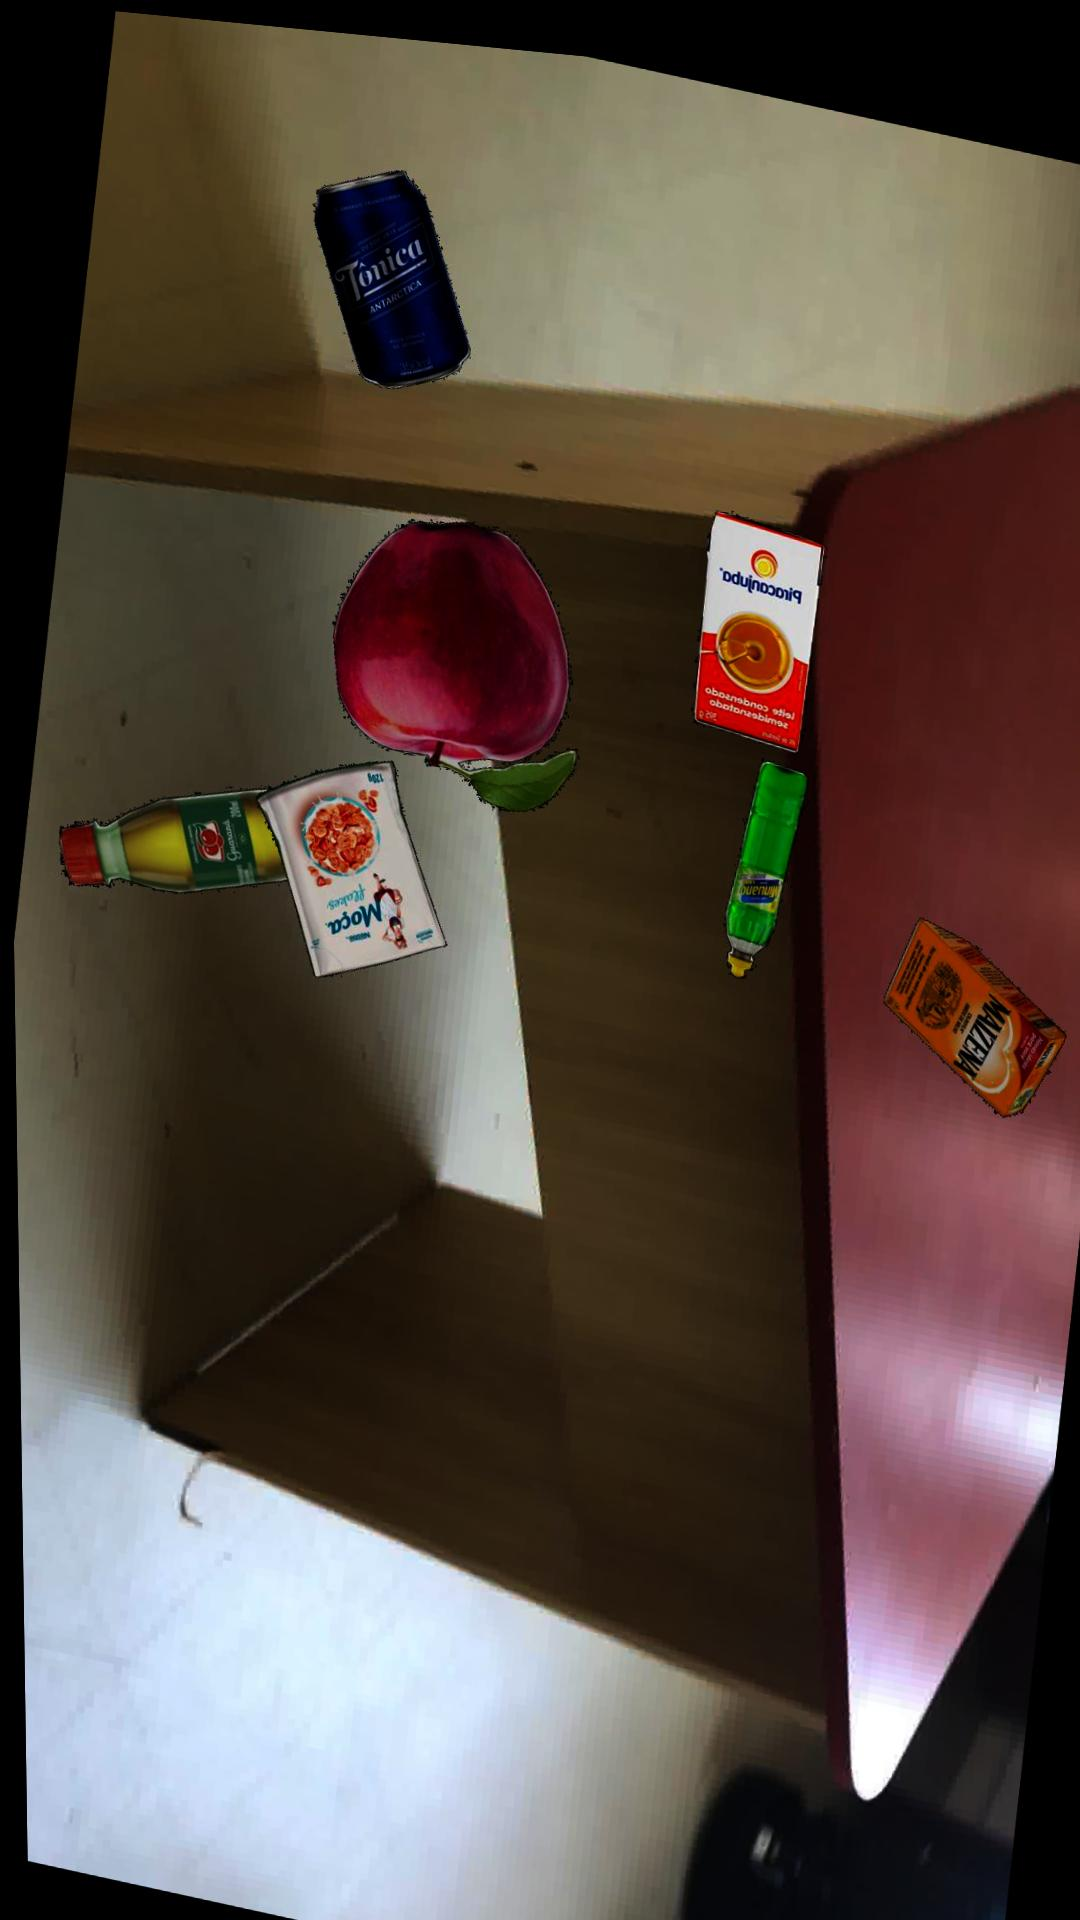apple: (327, 512, 572, 800)
cleaner: (717, 742, 804, 963)
corn flakes: (251, 753, 442, 971)
guarana: (53, 782, 281, 890)
tonic: (311, 162, 467, 380)
